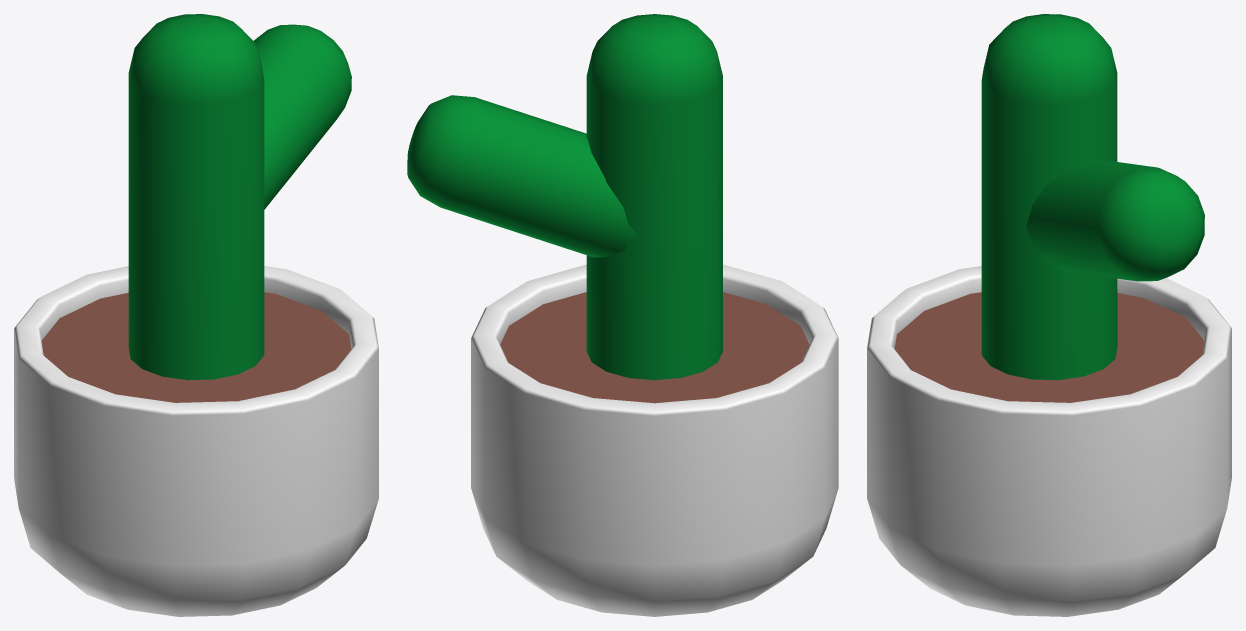
Rendered from Town_1_Plant_3.glb.
3 views of the same model, side by side, from view 1: azimuth 30°, elevation 25°; view 2: azimuth 150°, elevation 25°; view 3: azimuth 270°, elevation 25° (orthographic).
Parts seen in each view (by area): view 1: Town_1_Plant_3; view 2: Town_1_Plant_3; view 3: Town_1_Plant_3.
Part boxes in pixels (box(x1,y1,x2,y2)): Town_1_Plant_3: box(14, 14, 378, 616); Town_1_Plant_3: box(407, 14, 838, 616); Town_1_Plant_3: box(867, 14, 1231, 616).
Size of the model in its own units: 0.297 by 0.436 by 0.2654.
Materials: 1 (1 with a texture image).
